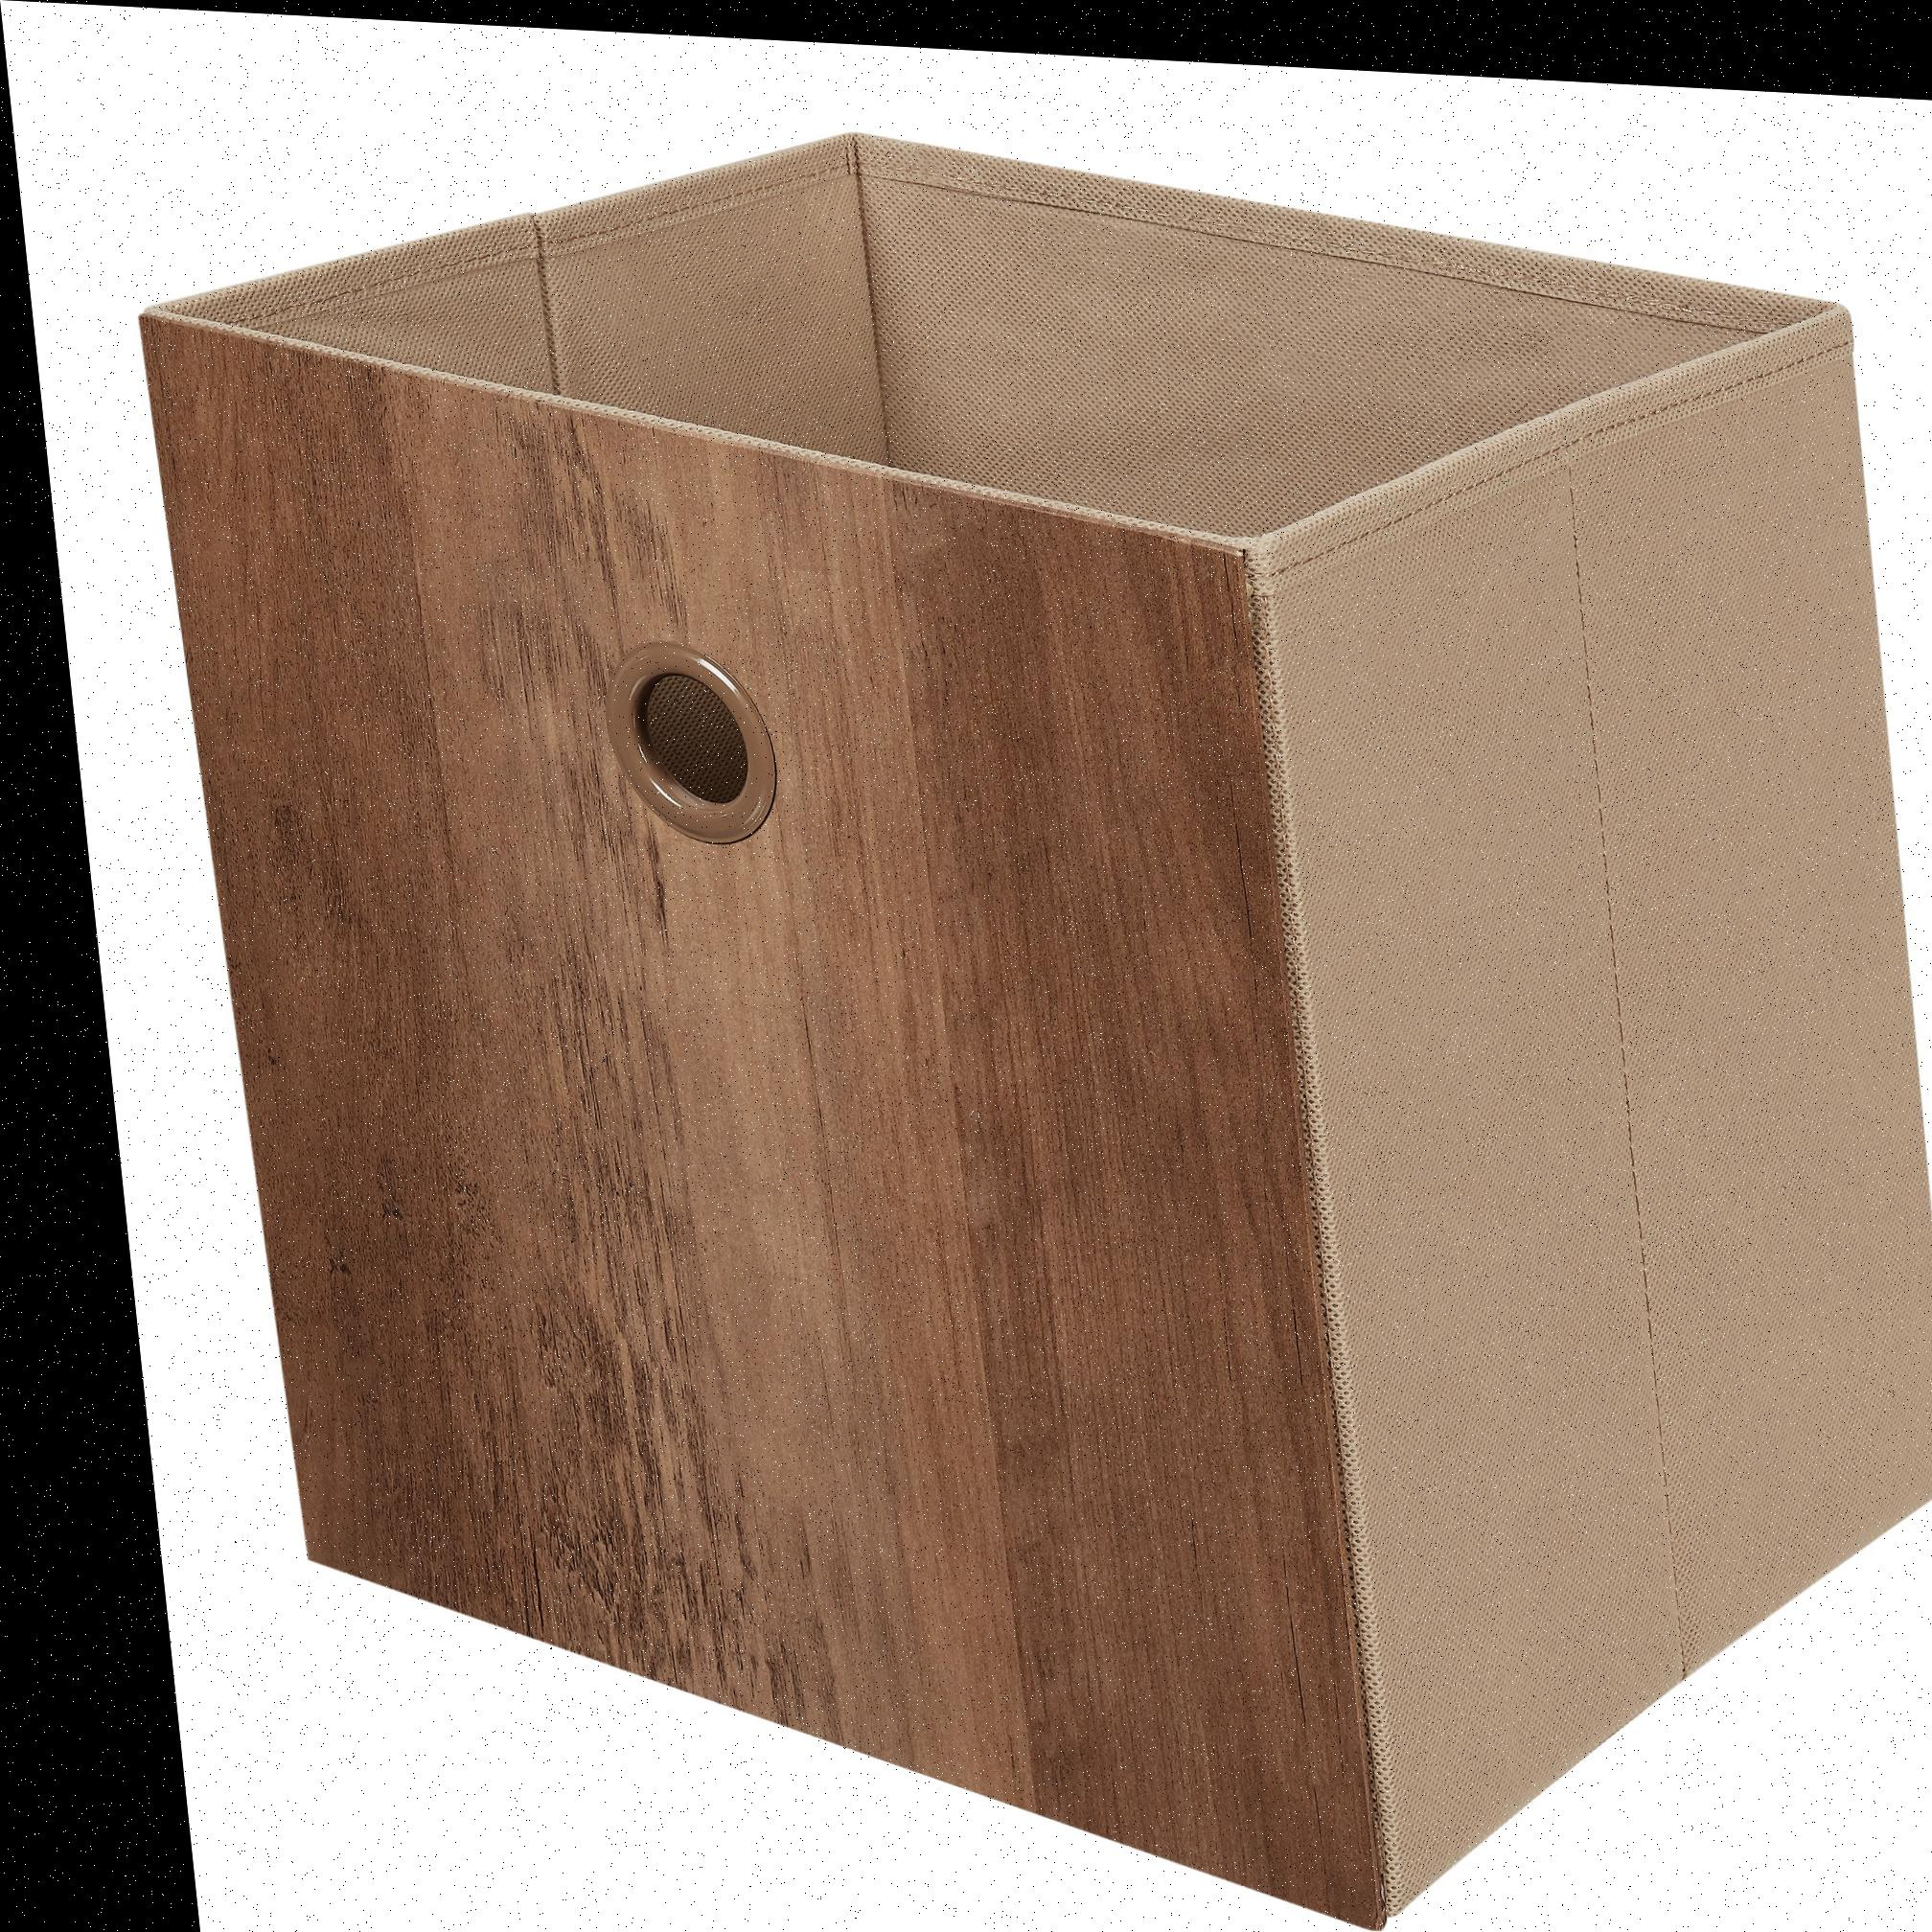cube: (108, 113, 1932, 1930)
